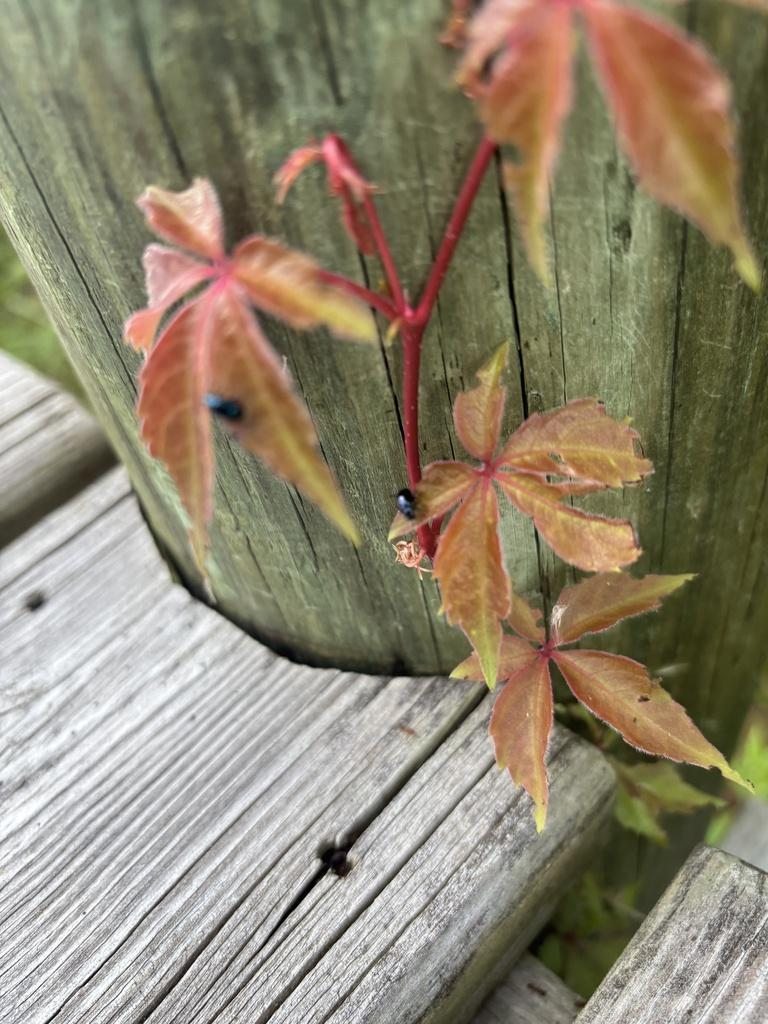flea_beetle: (197, 370, 253, 441), (386, 476, 429, 528)
